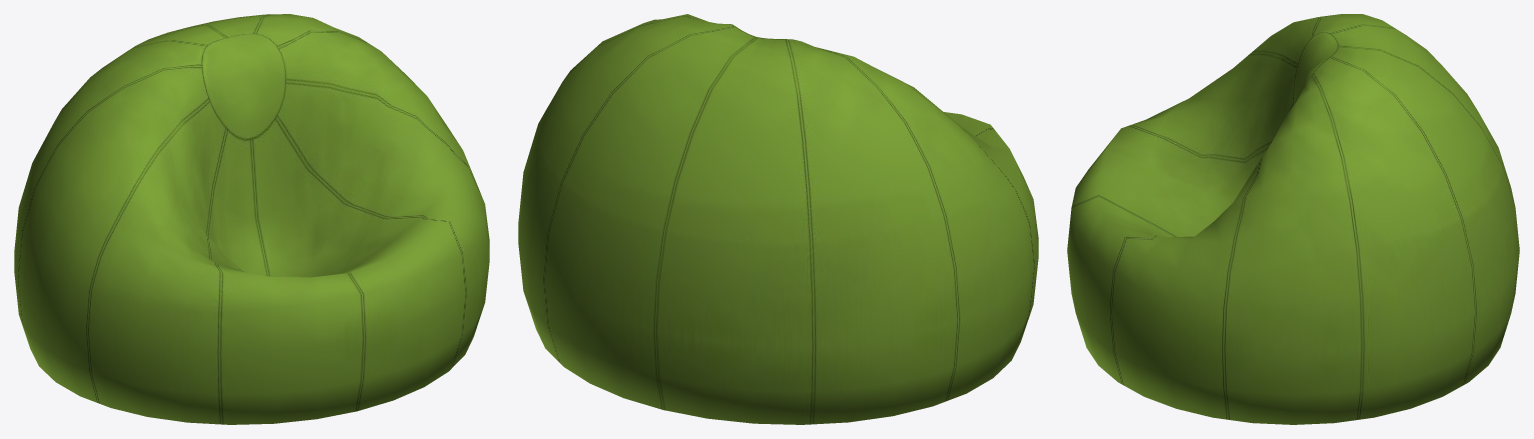
Rendered from puff.glb.
The picture shows the model from 3 angles, left to right: view 1: azimuth 30°, elevation 25°; view 2: azimuth 150°, elevation 25°; view 3: azimuth 270°, elevation 25°; orthographic projection. The views are drawn at different scales.
Parts seen in each view (by area): view 1: Sphere; view 2: Sphere; view 3: Sphere.
Boxes of the visible parts, bbox=[...] form: Sphere: bbox=[14, 14, 489, 424]; Sphere: bbox=[518, 14, 1038, 424]; Sphere: bbox=[1067, 14, 1519, 424].
Size of the model in its own units: 1.52 by 1 by 1.41.
1 material, 1 textured.
